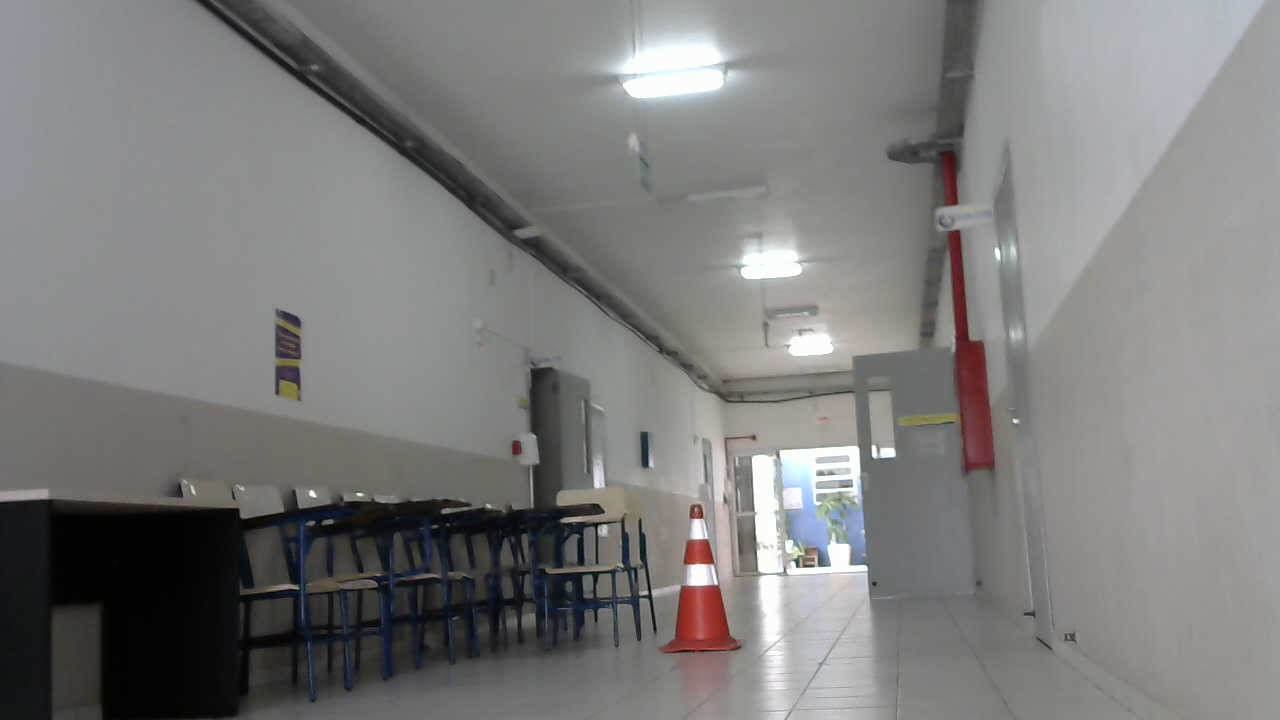cone: (670, 506, 742, 651)
